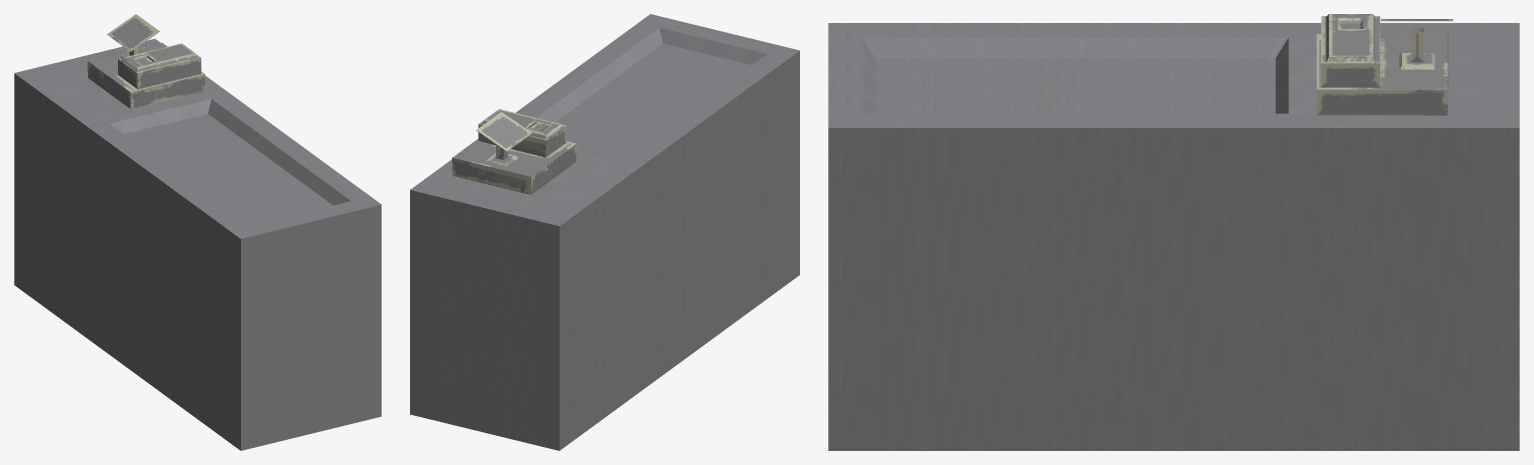
File: mejakasir.fbx
3 renders of one model, left to right at view 1: azimuth 30°, elevation 25°; view 2: azimuth 150°, elevation 25°; view 3: azimuth 270°, elevation 25°, orthographic. The views are drawn at different scales.
Parts seen in each view (by area): view 1: mesin kasir.001; view 2: mesin kasir.001; view 3: mesin kasir.001.
Part boxes in pixels (x1,y1,x2,y2): mesin kasir.001: [14, 14, 381, 450]; mesin kasir.001: [410, 14, 799, 450]; mesin kasir.001: [828, 14, 1519, 450].
Size of the model in its own units: 113 by 200 by 314.
